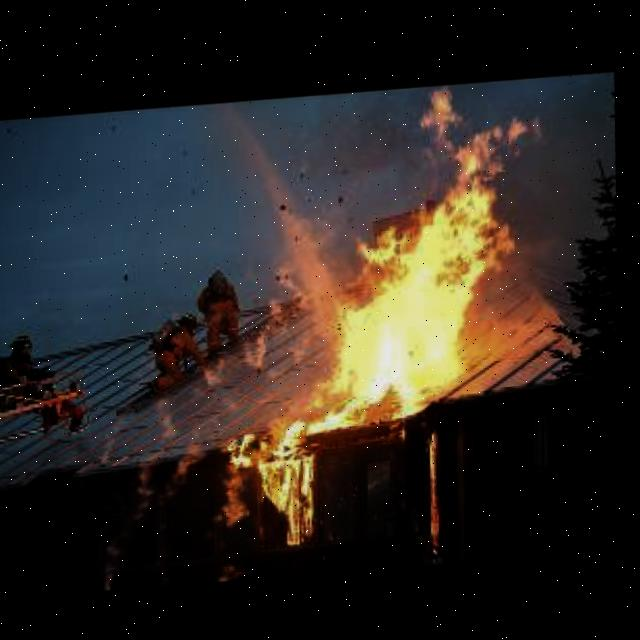Fire: (293, 71, 574, 424), (234, 212, 344, 374), (214, 411, 338, 554), (97, 459, 169, 588), (156, 415, 221, 511), (423, 425, 467, 558), (153, 386, 191, 450), (96, 413, 134, 466), (203, 348, 240, 394)
